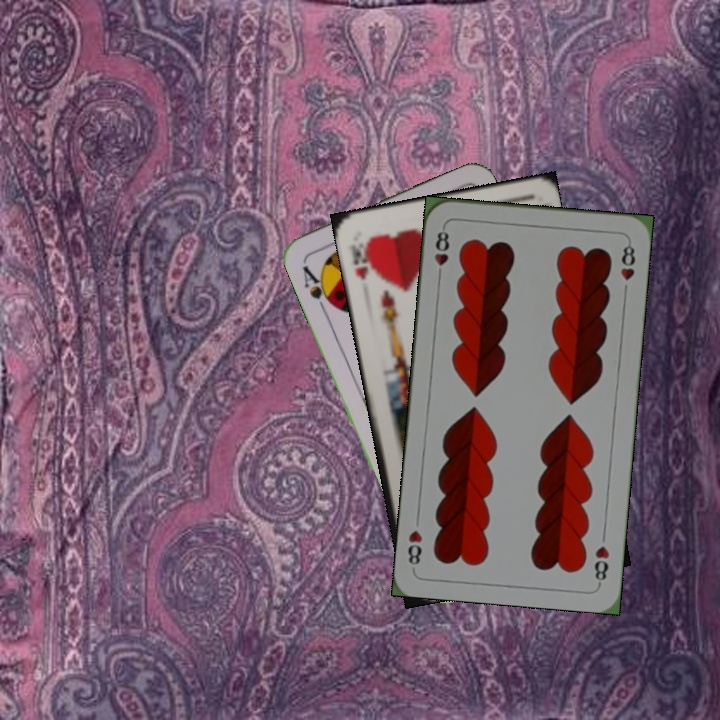H8: (430, 223, 452, 282), (590, 541, 612, 587)
HK: (346, 238, 375, 282)
SA: (298, 257, 338, 314)
